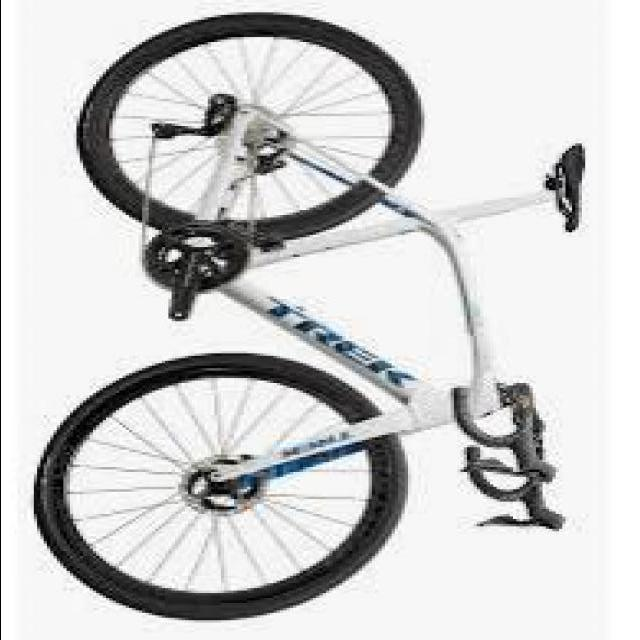bicycle: (37, 23, 585, 636)
